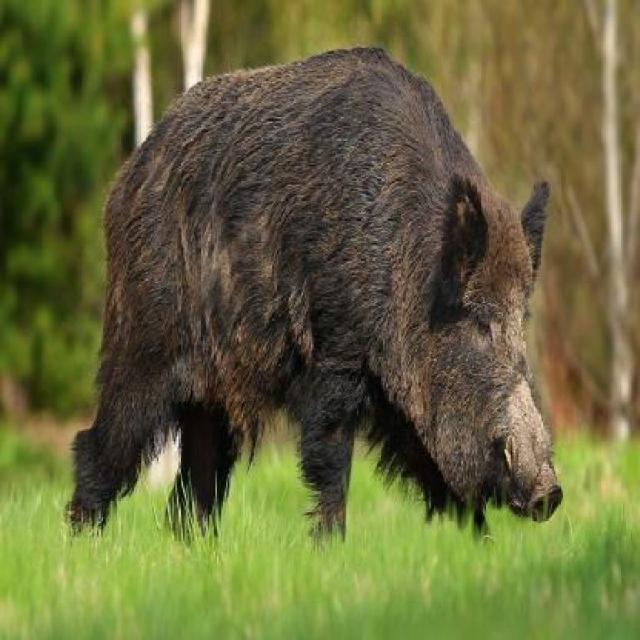wildboar: (63, 42, 568, 547)
